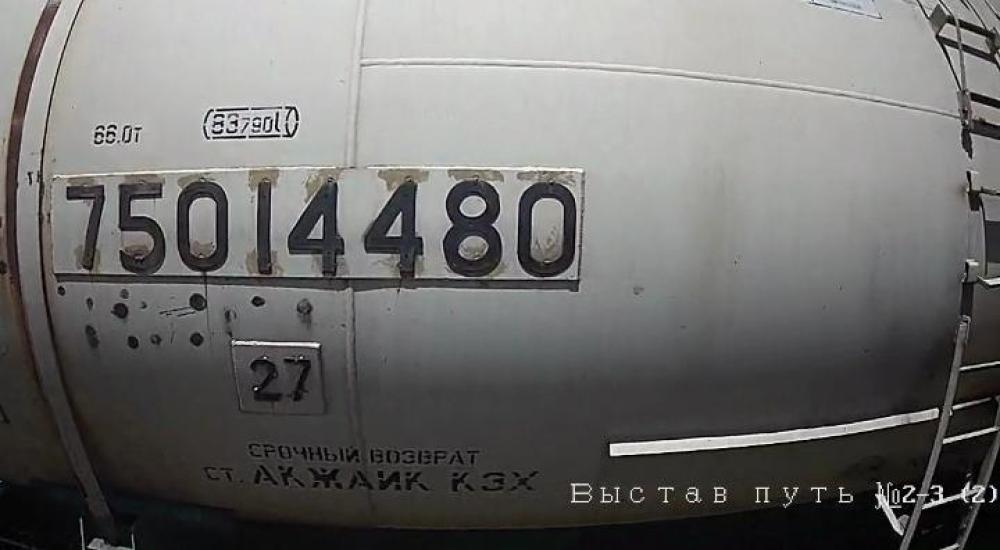Wagon-number: (54, 172, 580, 282)
